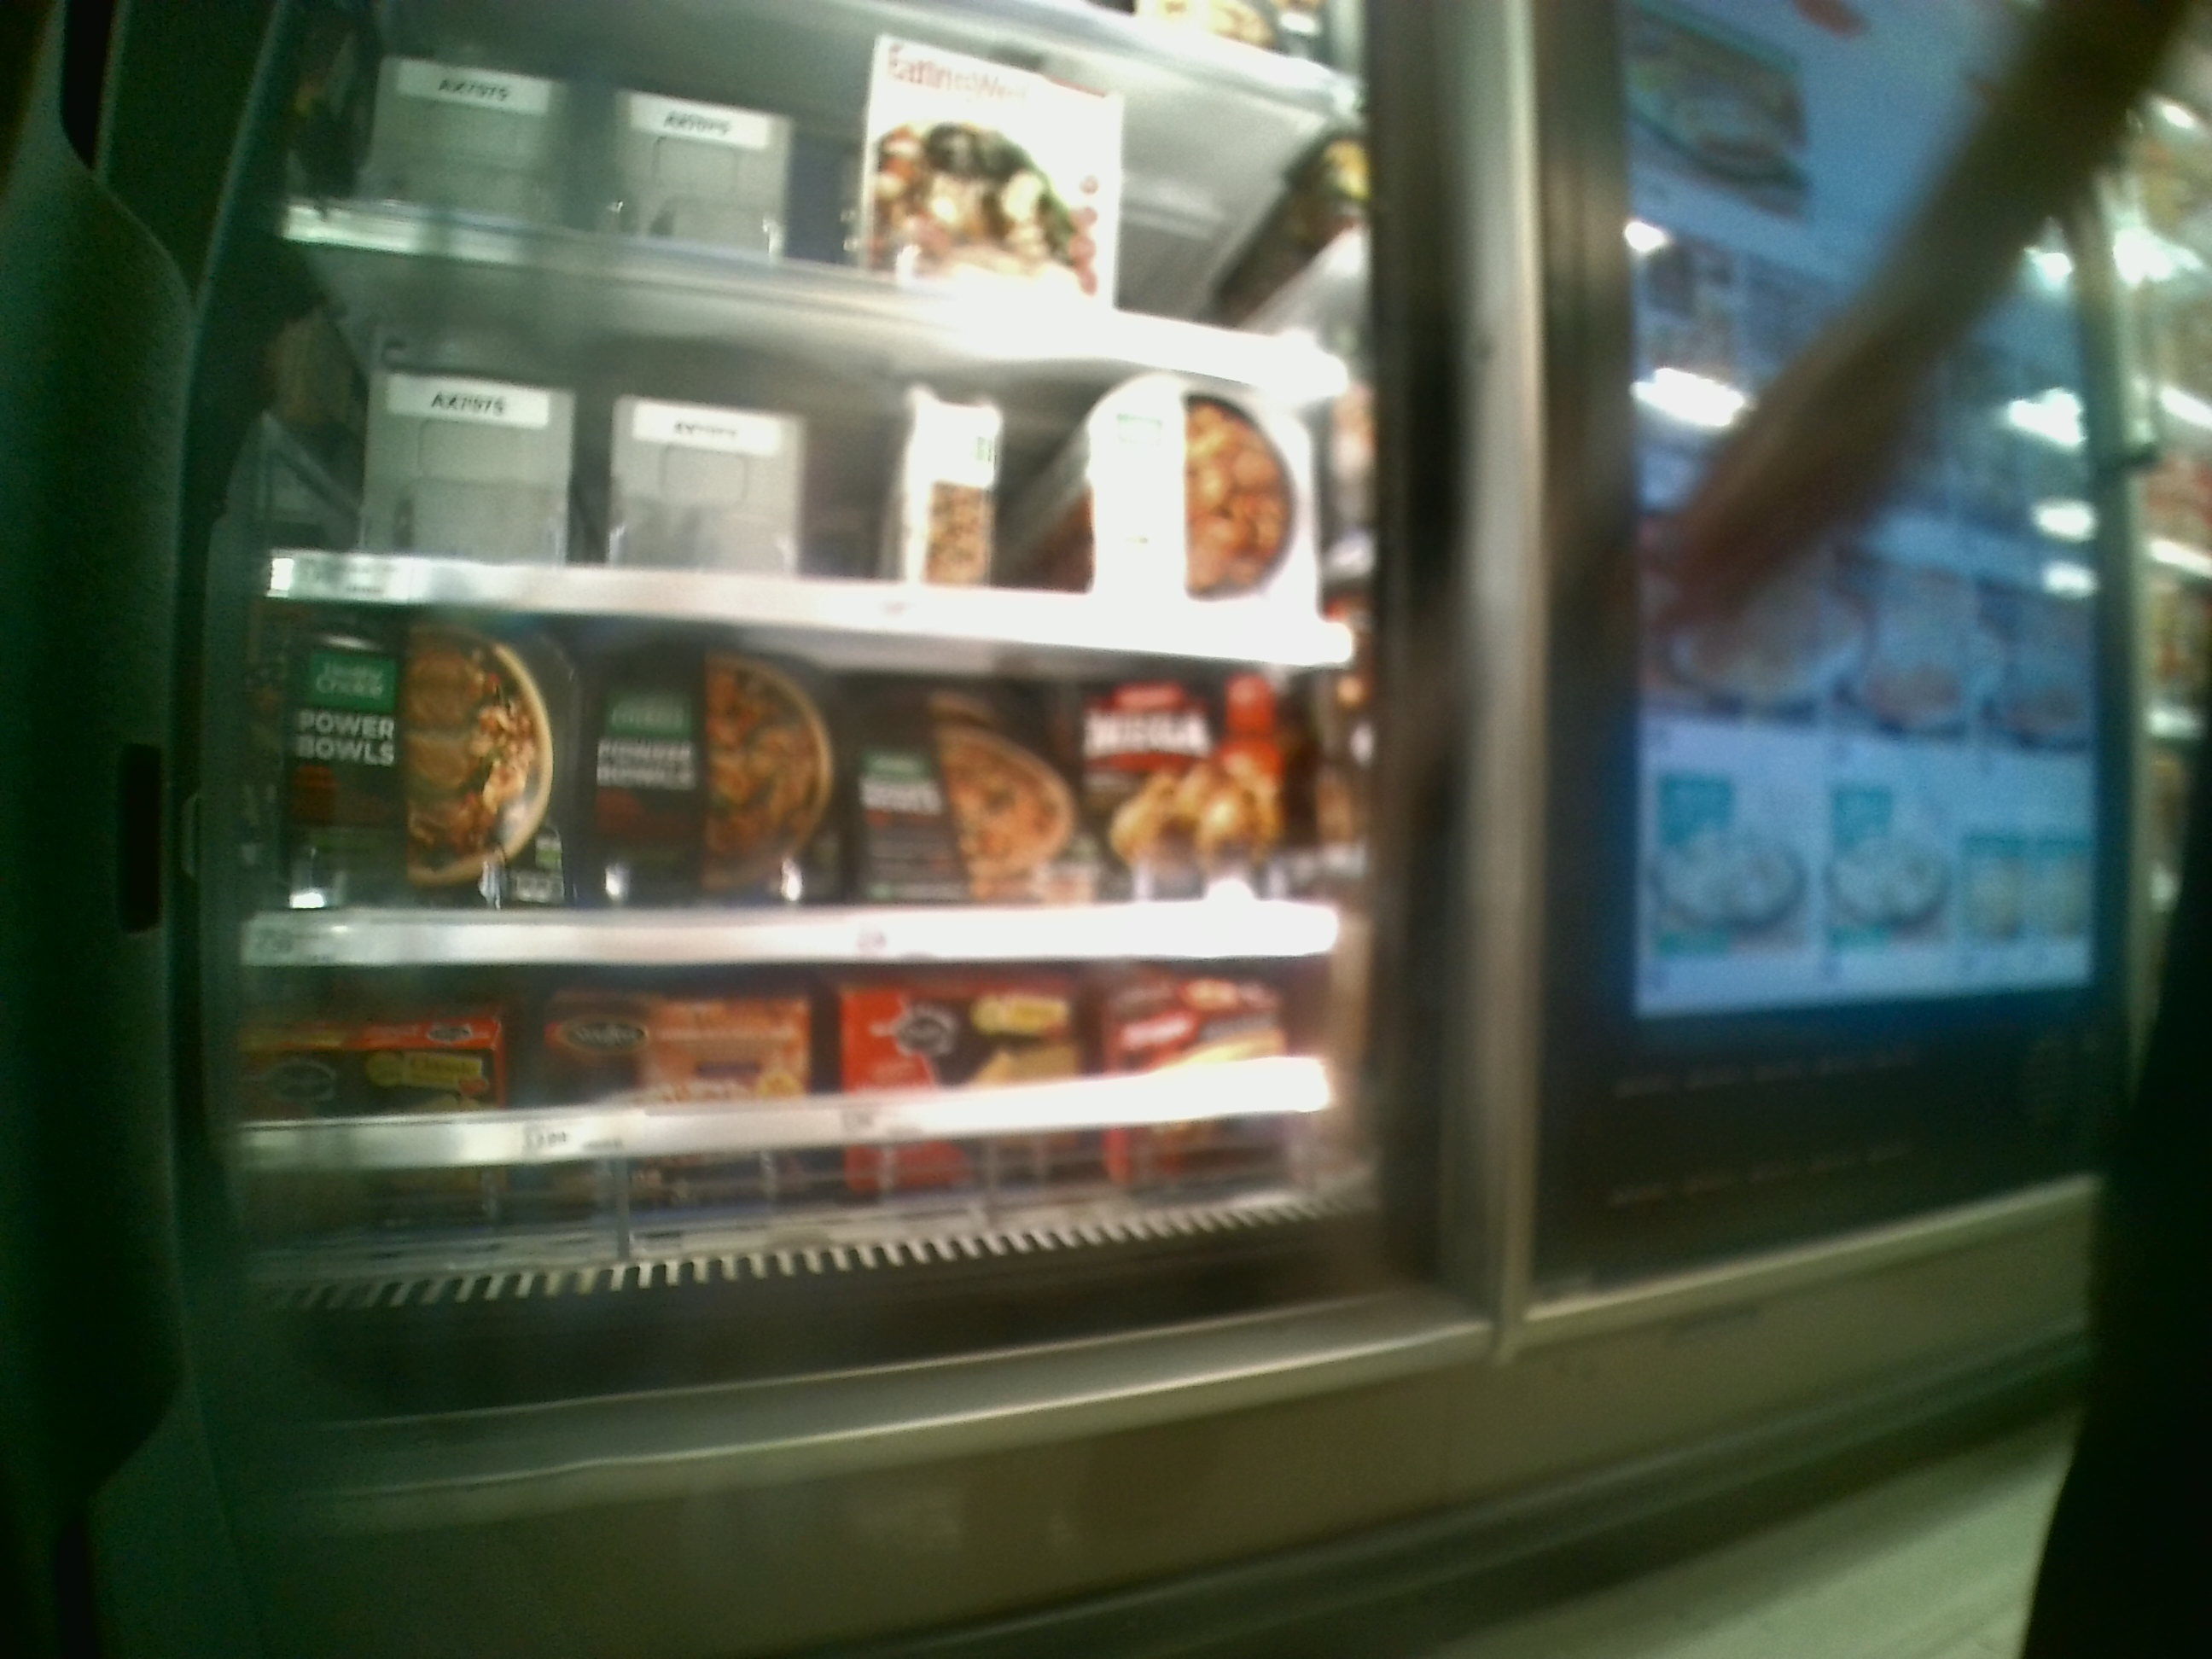Shelf: (240, 601, 1353, 953), (239, 955, 1374, 1269)
